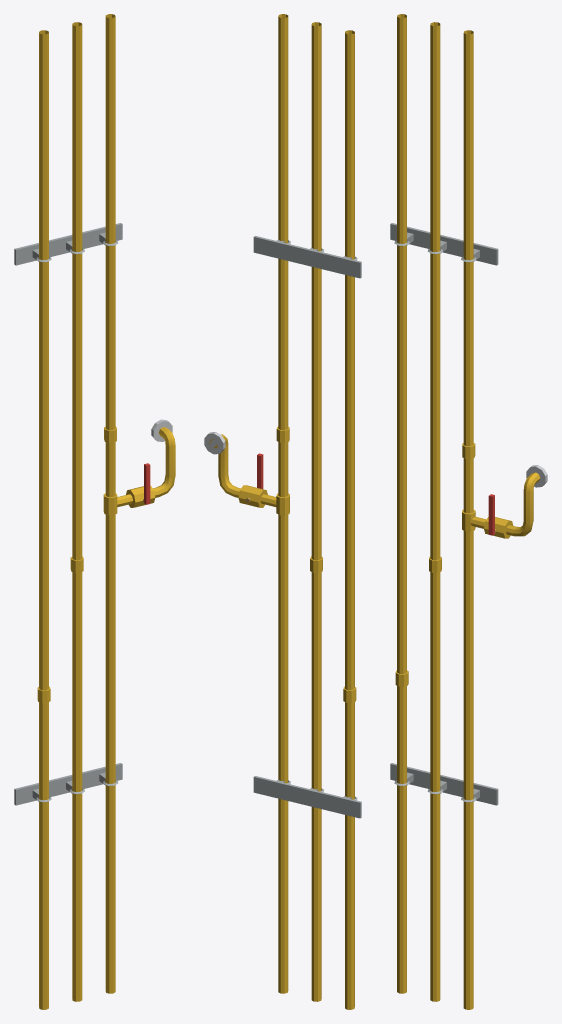
File: SC_Util_Gas_Pipe_Riser.gltf
The picture shows the model from 3 angles, left to right: view 1: azimuth 30°, elevation 25°; view 2: azimuth 150°, elevation 25°; view 3: azimuth 330°, elevation 25°; orthographic projection.
Parts seen in each view (by area): view 1: SC_Util_Gas_Pipe_Riser; view 2: SC_Util_Gas_Pipe_Riser; view 3: SC_Util_Gas_Pipe_Riser.
Boxes of the visible parts, box(x1,y1,x2,y2) form: SC_Util_Gas_Pipe_Riser: box(14, 14, 175, 1009); SC_Util_Gas_Pipe_Riser: box(204, 14, 361, 1009); SC_Util_Gas_Pipe_Riser: box(390, 14, 547, 1009).
Size of the model in its own units: 0.4685 by 2.8 by 0.091.
1 material, 1 textured.
